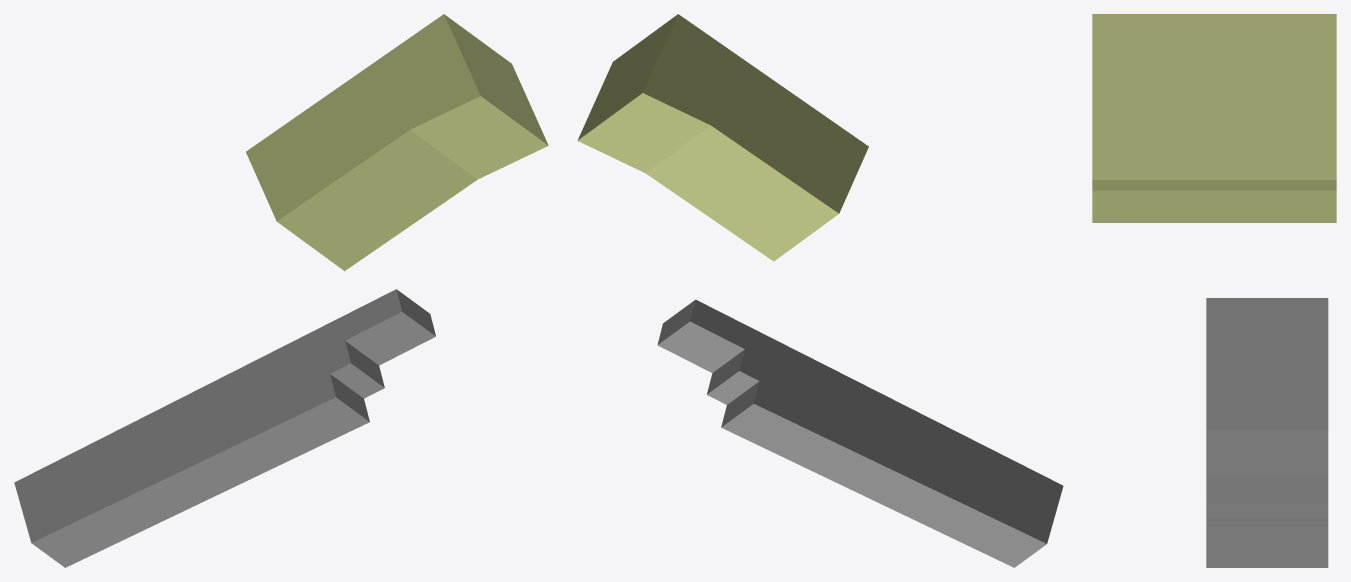
3 views of the same model, side by side, from view 1: azimuth 30°, elevation 25°; view 2: azimuth 150°, elevation 25°; view 3: azimuth 270°, elevation 25° (orthographic). The views are drawn at different scales.
Parts seen in each view (by area): view 1: 0_1_0_0_1_0_3_3_0_3; view 2: 0_1_0_0_1_0_3_3_0_3; view 3: 0_1_0_0_1_0_3_3_0_3.
Part boxes in pixels (bbox=[...]): 0_1_0_0_1_0_3_3_0_3: bbox=[14, 14, 548, 567]; 0_1_0_0_1_0_3_3_0_3: bbox=[577, 14, 1063, 567]; 0_1_0_0_1_0_3_3_0_3: bbox=[1092, 14, 1336, 567].
Size of the model in its own units: 23.91 by 20.77 by 6.
